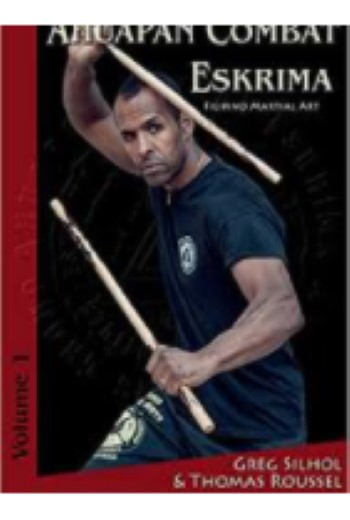baston_e: (105, 55, 277, 167), (42, 211, 158, 341)
baston_v: (190, 408, 225, 437), (260, 160, 285, 194), (45, 188, 66, 222)
